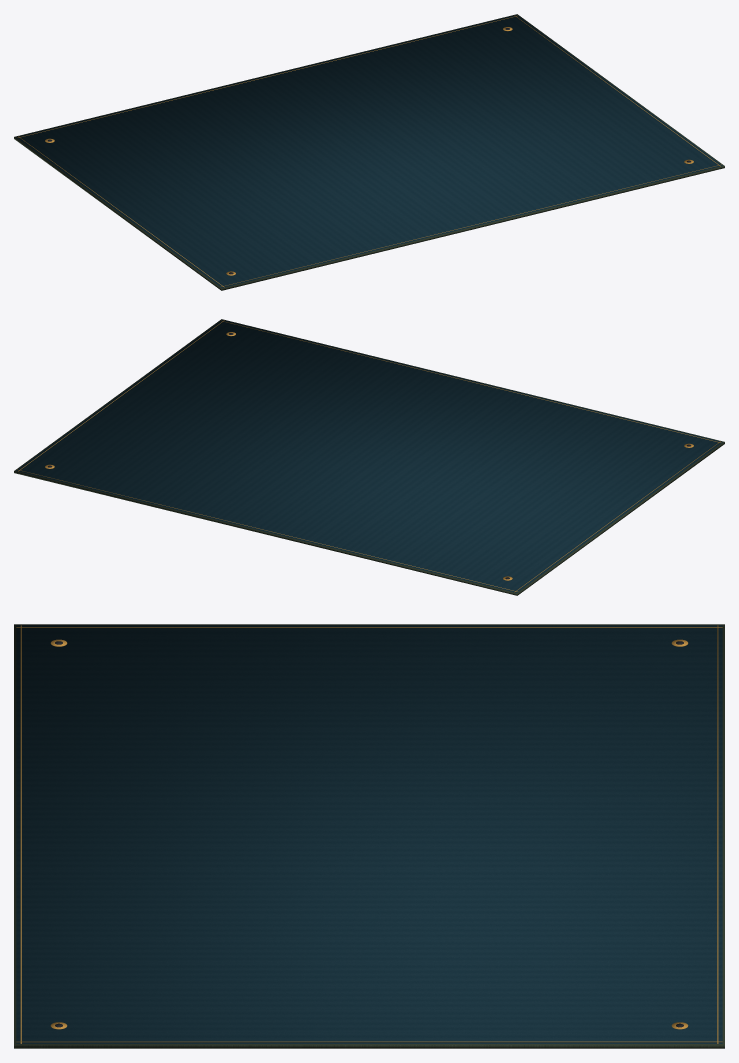
The model's file is 197_L115_PCB_Main.obj.
3 views of the same model, one above another, from view 1: azimuth 30°, elevation 25°; view 2: azimuth 150°, elevation 25°; view 3: azimuth 270°, elevation 25° (orthographic). The views are drawn at different scales.
Visible parts, largest first — view 1: 197_L115_PCB_Main_Mask_Midnight, 197_L115_PCB_Main_FR4_Core, 197_L115_PCB_Main_Gold_ENIG; view 2: 197_L115_PCB_Main_Mask_Midnight, 197_L115_PCB_Main_FR4_Core, 197_L115_PCB_Main_Gold_ENIG; view 3: 197_L115_PCB_Main_Mask_Midnight, 197_L115_PCB_Main_FR4_Core, 197_L115_PCB_Main_Gold_ENIG.
Part boxes in pixels (bbox=[...]): 197_L115_PCB_Main_Mask_Midnight: bbox=[16, 15, 722, 287]; 197_L115_PCB_Main_FR4_Core: bbox=[14, 14, 724, 290]; 197_L115_PCB_Main_Gold_ENIG: bbox=[17, 15, 721, 287]; 197_L115_PCB_Main_Mask_Midnight: bbox=[16, 320, 722, 592]; 197_L115_PCB_Main_FR4_Core: bbox=[14, 319, 724, 595]; 197_L115_PCB_Main_Gold_ENIG: bbox=[17, 320, 721, 592]; 197_L115_PCB_Main_Mask_Midnight: bbox=[16, 625, 722, 1043]; 197_L115_PCB_Main_FR4_Core: bbox=[14, 624, 724, 1048]; 197_L115_PCB_Main_Gold_ENIG: bbox=[16, 625, 722, 1043].
Size of the model in its own units: 0.42 by 0.00188 by 0.3.
Materials: 4 (4 with a texture image).
